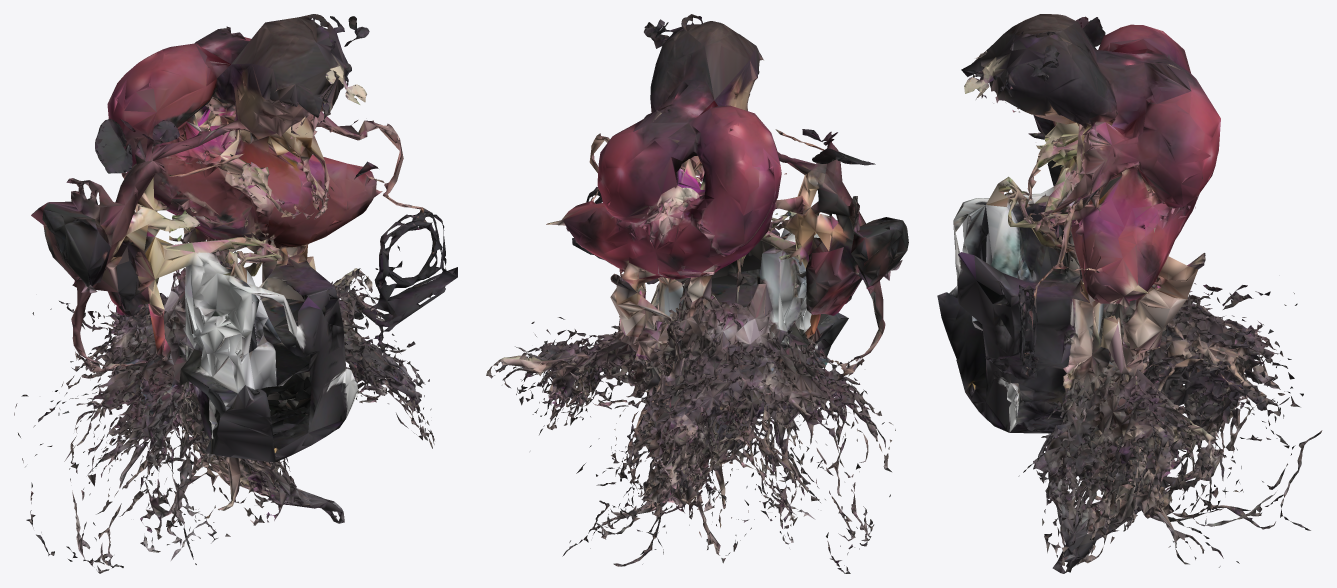
The model's file is Klonema.glb.
The picture shows the model from 3 angles, left to right: view 1: azimuth 30°, elevation 25°; view 2: azimuth 150°, elevation 25°; view 3: azimuth 270°, elevation 25°; orthographic projection. The views are drawn at different scales.
Parts seen in each view (by area): view 1: Mesh_0; view 2: Mesh_0; view 3: Mesh_0.
Part boxes in pixels (x1,y1,x2,y2): Mesh_0: (14, 14, 457, 573); Mesh_0: (486, 14, 908, 573); Mesh_0: (937, 14, 1322, 573).
Bounding box in the file's own units: 1.55 × 1.99 × 1.32.
Materials: 1 (1 with a texture image).
